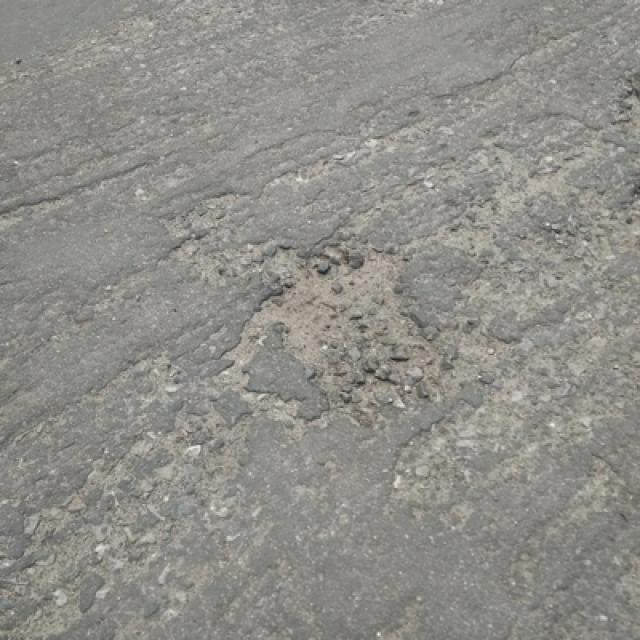jalan_berlubang: (188, 242, 462, 410)
